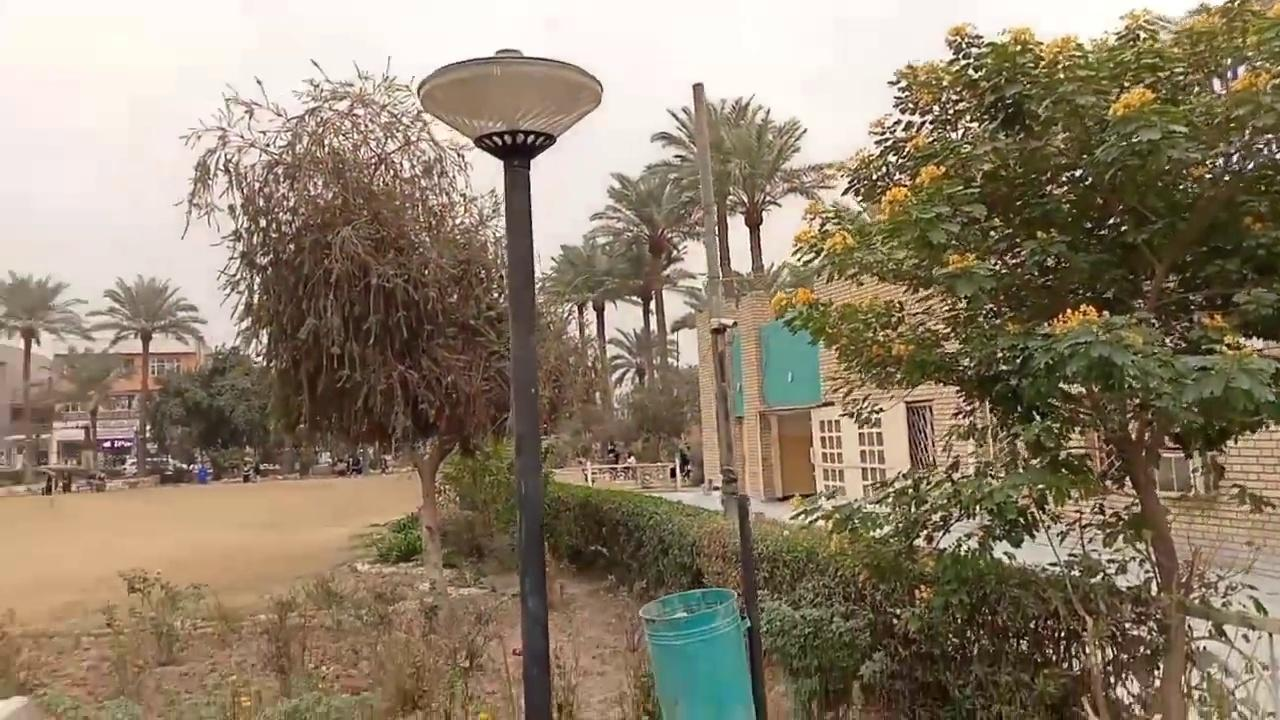tree: (768, 1, 1278, 717), (171, 54, 541, 611), (643, 92, 837, 493), (646, 92, 838, 277), (585, 169, 705, 461), (84, 272, 207, 476), (541, 238, 631, 460), (145, 345, 268, 481), (713, 103, 810, 274), (605, 324, 697, 462), (0, 268, 88, 386)
